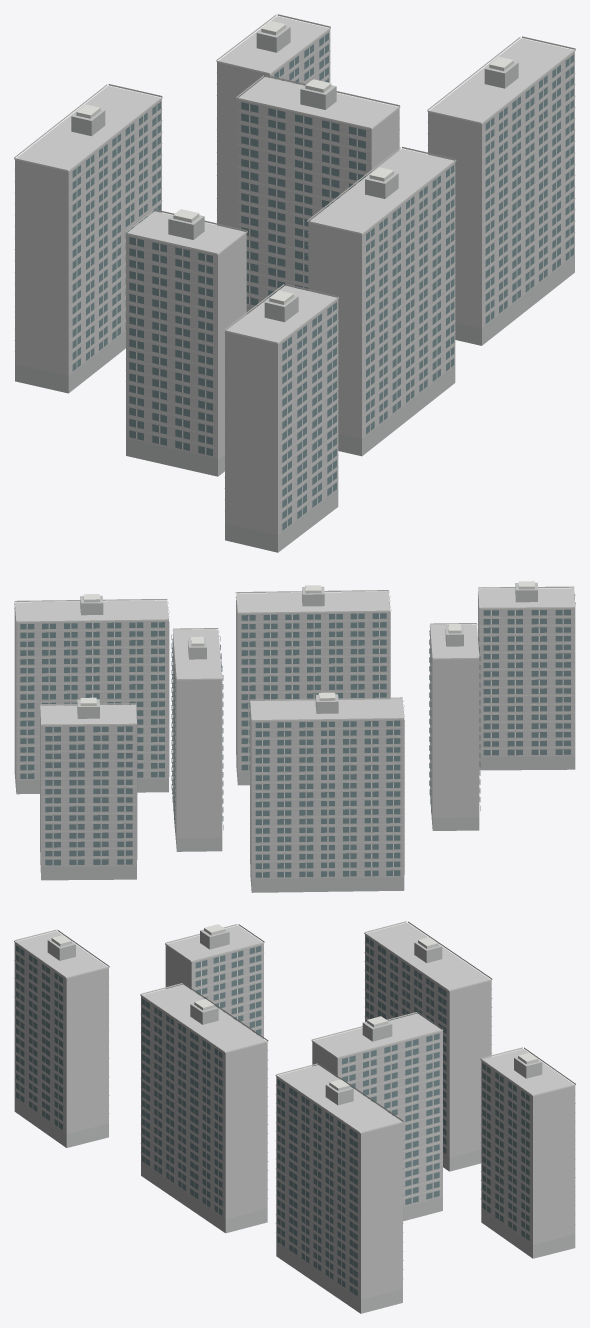
Rendered from representative-a13293505.glb.
3 views of the same model, one above another, from view 1: azimuth 30°, elevation 25°; view 2: azimuth 150°, elevation 25°; view 3: azimuth 270°, elevation 25° (orthographic). The views are drawn at different scales.
Visible parts, largest first — view 1: A13293505_wall001, A13293505_glass001, A13293505_trim001, A13293505_base001, A13293505_roof001; view 2: A13293505_wall001, A13293505_glass001, A13293505_trim001, A13293505_base001, A13293505_roof001; view 3: A13293505_wall001, A13293505_glass001, A13293505_trim001, A13293505_base001, A13293505_roof001.
Boxes of the visible parts, x1,y1,x2,y2 form: A13293505_wall001: (15,16,574,535); A13293505_glass001: (72,33,573,530); A13293505_trim001: (14,14,575,527); A13293505_base001: (15,255,574,552); A13293505_roof001: (71,26,518,322); A13293505_wall001: (14,588,575,879); A13293505_glass001: (20,609,570,877); A13293505_trim001: (14,581,575,877); A13293505_base001: (14,756,575,892); A13293505_roof001: (77,582,537,718); A13293505_wall001: (14,922,575,1299); A13293505_glass001: (16,937,529,1295); A13293505_trim001: (14,921,575,1293); A13293505_base001: (14,1098,575,1313); A13293505_roof001: (47,929,542,1105).
Size of the model in its own units: 129 by 55.3 by 144.
